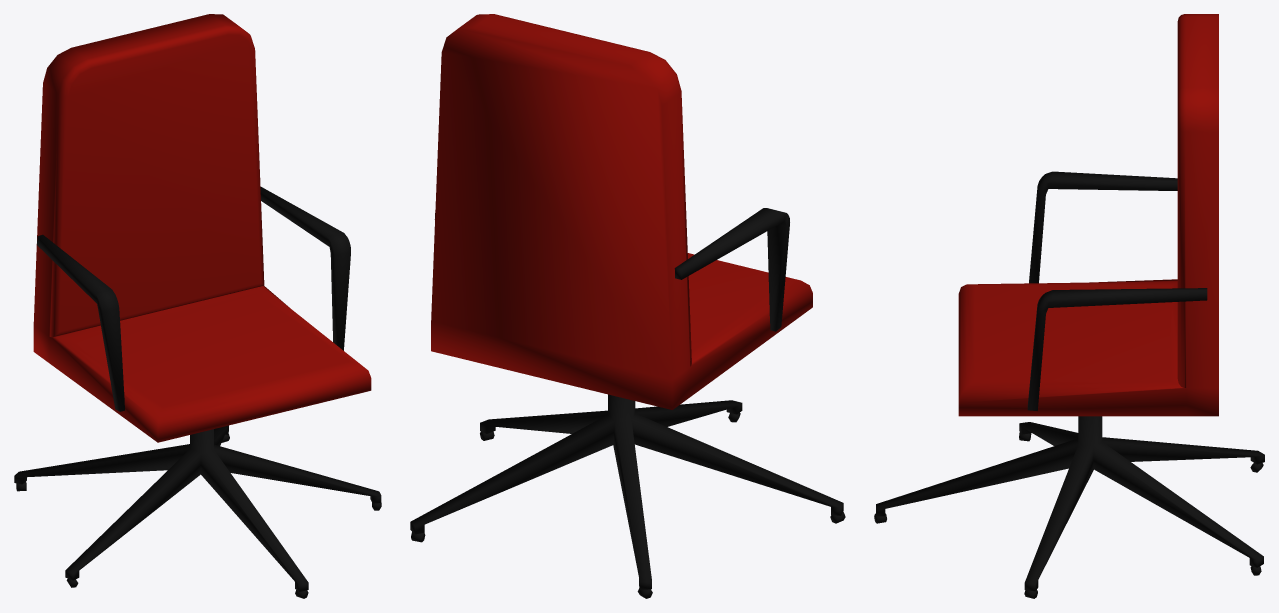
File: Office_Chair.glb
The picture shows the model from 3 angles, left to right: view 1: azimuth 30°, elevation 25°; view 2: azimuth 150°, elevation 25°; view 3: azimuth 270°, elevation 25°; orthographic projection. The views are drawn at different scales.
Visible parts, largest first — view 1: Office Chair Top.001, Office Chair Legs.001, Office Chair Arms.001; view 2: Office Chair Top.001, Office Chair Legs.001, Office Chair Arms.001; view 3: Office Chair Top.001, Office Chair Legs.001, Office Chair Arms.001.
Boxes of the visible parts, x1,y1,x2,y2 form: Office Chair Top.001: (33,14,371,442); Office Chair Legs.001: (14,425,381,591); Office Chair Arms.001: (37,187,350,411); Office Chair Top.001: (431,14,812,409); Office Chair Legs.001: (410,394,843,589); Office Chair Arms.001: (434,208,789,331); Office Chair Top.001: (958,14,1218,416); Office Chair Legs.001: (876,416,1264,591); Office Chair Arms.001: (1027,171,1207,410).
Bounding box in the file's own units: 0.745 × 1 × 0.7563.
